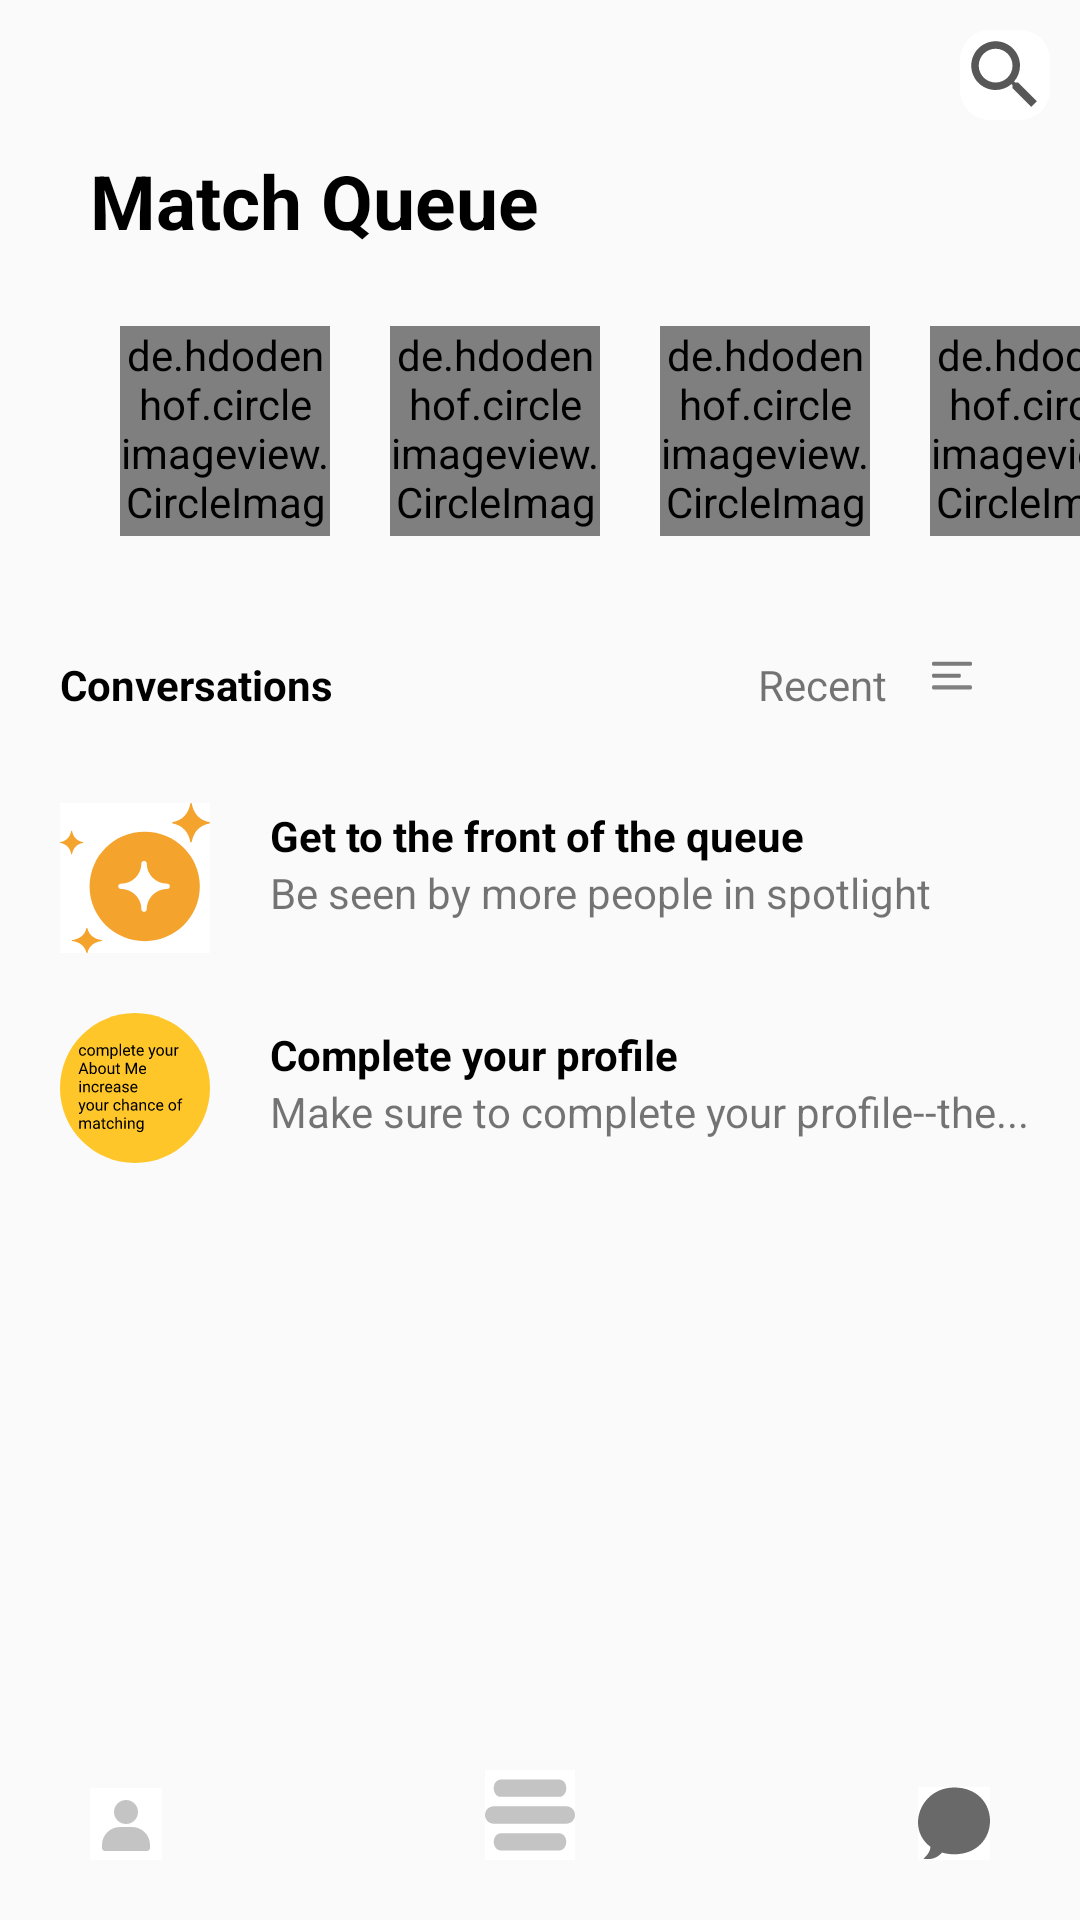

Where icons sit on this 1080*1920 app screen, as bbox(x1, y1, x2, y2):
chat 50final: bbox(918, 1787, 990, 1859)
iconfinder user account profile: bbox(102, 1800, 150, 1851)
spotlightbig: bbox(60, 803, 210, 953)
